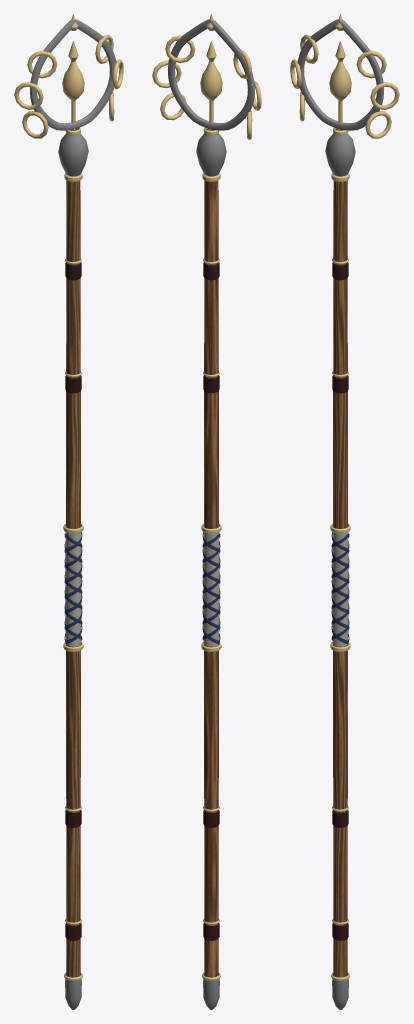
The model's file is gear_edo_shakujo.glb.
3 views of the same model, side by side, from view 1: azimuth 30°, elevation 25°; view 2: azimuth 150°, elevation 25°; view 3: azimuth 330°, elevation 25° (orthographic).
Visible parts, largest first — view 1: gear_edo_shakujo; view 2: gear_edo_shakujo; view 3: gear_edo_shakujo.
Part boxes in pixels (x1=…): gear_edo_shakujo: x1=14, y1=14, x2=123, y2=1009; gear_edo_shakujo: x1=152, y1=14, x2=261, y2=1009; gear_edo_shakujo: x1=290, y1=14, x2=399, y2=1009.
Bounding box in the file's own units: 0.2623 × 2.29 × 0.0624.
Materials: 6 (1 with a texture image).
